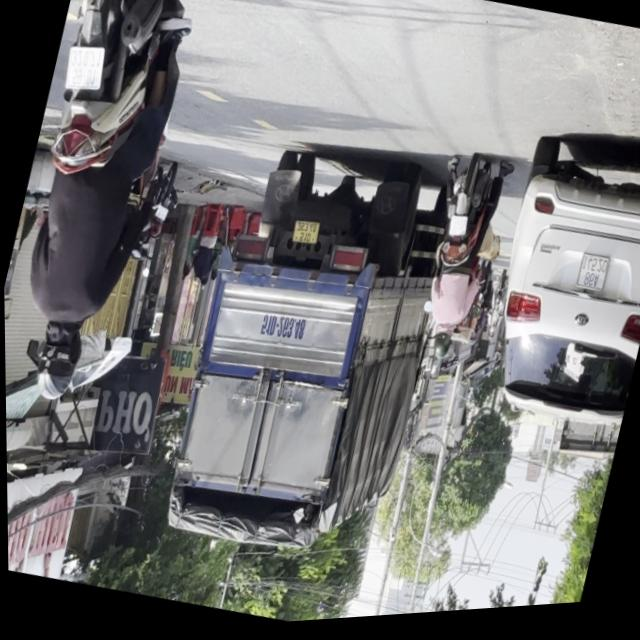helmet: (23, 314, 87, 406), (427, 329, 452, 366)
licenseplate: (0, 0, 219, 418), (403, 152, 512, 373)
nohelmet: (61, 42, 106, 94), (444, 218, 467, 244)
